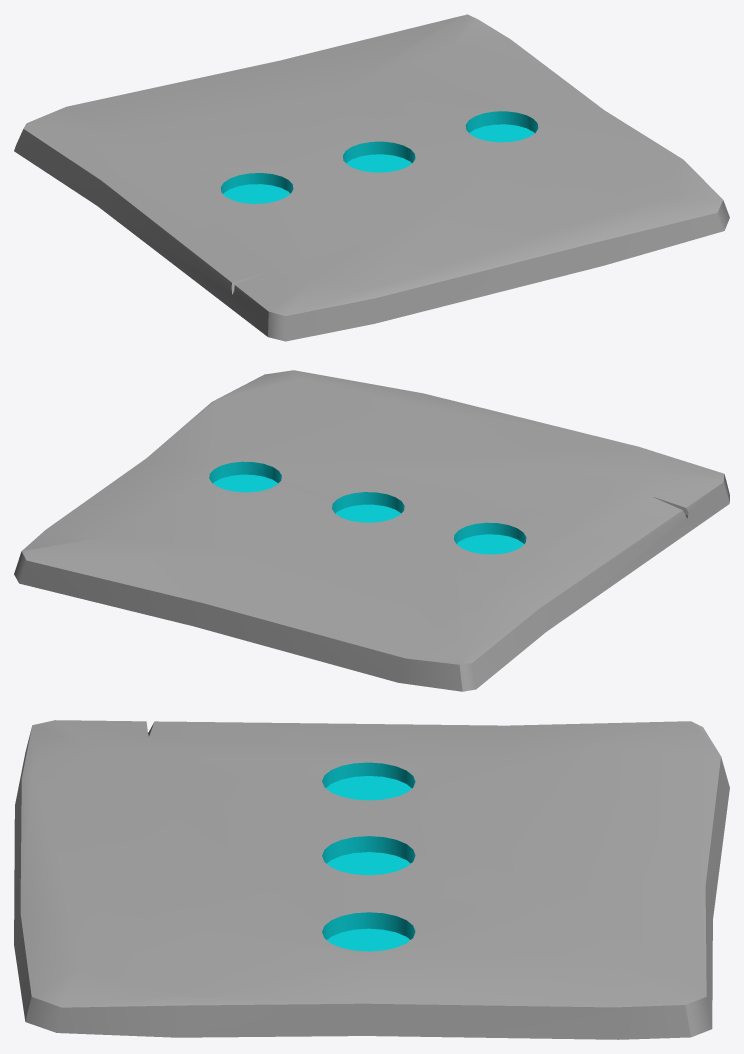
Rendered from dalle3.fbx.
3 renders of one model, top to bottom at view 1: azimuth 30°, elevation 25°; view 2: azimuth 150°, elevation 25°; view 3: azimuth 270°, elevation 25°, orthographic. The views are drawn at different scales.
Visible parts, largest first — view 1: pCube4; view 2: pCube4; view 3: pCube4.
Boxes of the visible parts, left/top/right/bottom form: pCube4: left=14, top=14, right=729, bottom=341; pCube4: left=14, top=370, right=729, bottom=691; pCube4: left=14, top=720, right=729, bottom=1039.
Size of the model in its own units: 6.99 by 0.4395 by 7.18.
